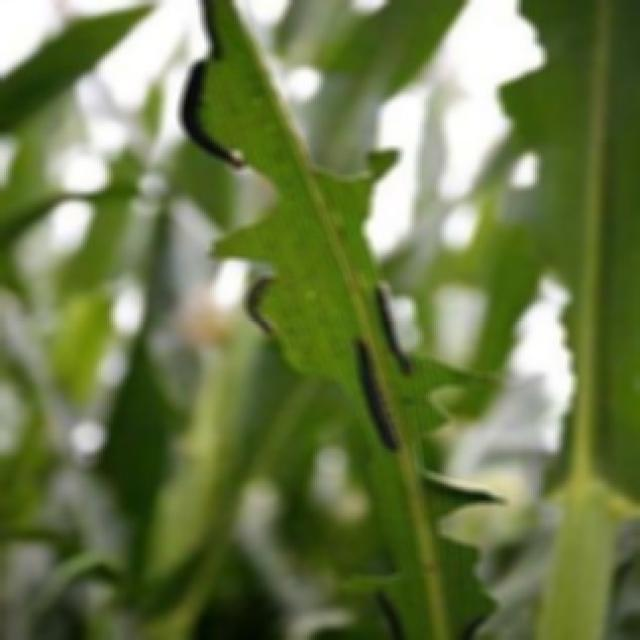army worm: (177, 54, 249, 175), (345, 332, 404, 456), (367, 278, 426, 374), (243, 267, 284, 334)
